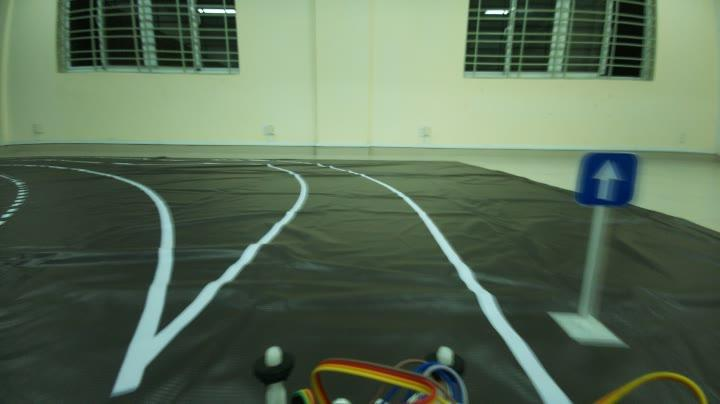onewayroad: (576, 149, 640, 209)
